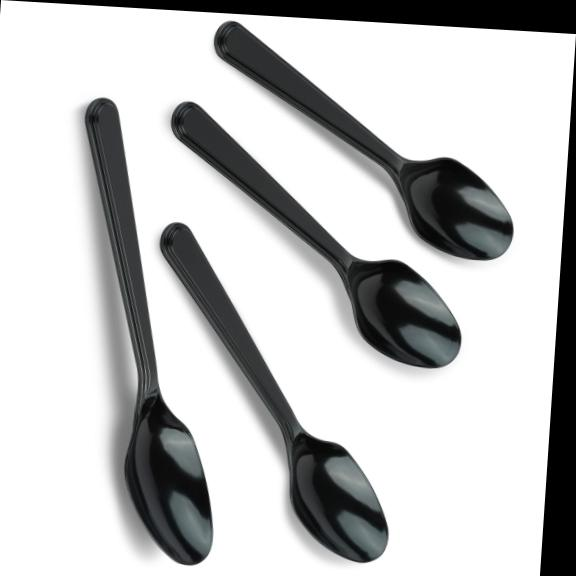Plastik: (160, 223, 387, 562), (171, 102, 460, 367), (214, 22, 512, 260), (85, 99, 212, 564)
